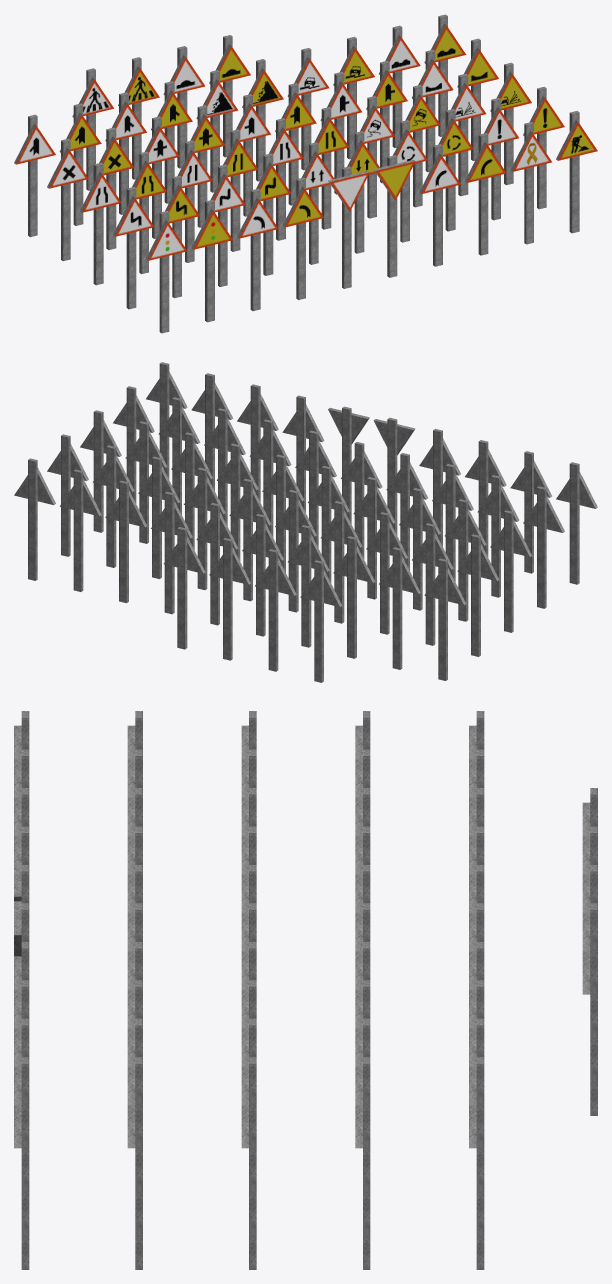
File: simple_triangular_traffic_asset.glb
3 renders of one model, top to bottom at view 1: azimuth 30°, elevation 25°; view 2: azimuth 150°, elevation 25°; view 3: azimuth 270°, elevation 25°, orthographic. The views are drawn at different scales.
Parts seen in each view (by area): view 1: Senyal cediu obres, Senyal Corba L, Senyal Estrenyiment, Senyal Corbes L, Senyal Corba R obres, Senyal semafor, Senyal Obres, Senyal Cediu, Senyal Corba L obres, Senyal Corba R, Senyal Semafor obres, Senyal Llibertat presos politics (+42 smaller); view 2: Senyal semafor, Senyal Incorporacio prioritat L obres, Senyal Irregular, Senyal Pas vianants obres, Senyal Ressalt obres, Senyal Incorporacio prioritat L, Senyal Incorporacio prioritat R, Senyal Pas vianants, Senyal Irregular obres, Senyal Estrenyiment, Senyal esglao obres, Senyal Ressalt (+42 smaller); view 3: Senyal Obres, Senyal Irregular obres, Senyal Baden obres, Senyal Perill obres, Senyal Graveta obres, Senyal Ressalt obres, Senyal cediu obres.
Part boxes in pixels (left/top/right/bottom): Senyal cediu obres: left=373, top=155, right=415, bottom=277; Senyal Corba L: left=237, top=188, right=278, bottom=311; Senyal Estrenyiment: left=80, top=162, right=121, bottom=285; Senyal Corbes L: left=113, top=187, right=154, bottom=309; Senyal Corba R obres: left=465, top=133, right=506, bottom=255; Senyal semafor: left=145, top=211, right=187, bottom=333; Senyal Obres: left=556, top=110, right=597, bottom=233; Senyal Cediu: left=328, top=166, right=369, bottom=288; Senyal Corba L obres: left=282, top=177, right=324, bottom=299; Senyal Corba R: left=419, top=144, right=460, bottom=266; Senyal Semafor obres: left=191, top=199, right=232, bottom=322; Senyal Llibertat presos politics: left=510, top=122, right=551, bottom=244; Senyal semafor: left=556, top=462, right=597, bottom=584; Senyal Incorporacio prioritat L obres: left=379, top=547, right=420, bottom=669; Senyal Irregular: left=60, top=469, right=101, bottom=591; Senyal Pas vianants obres: left=255, top=549, right=296, bottom=671; Senyal Ressalt obres: left=164, top=527, right=205, bottom=649; Senyal Incorporacio prioritat L: left=424, top=558, right=466, bottom=680; Senyal Incorporacio prioritat R: left=333, top=536, right=374, bottom=658; Senyal Pas vianants: left=300, top=560, right=341, bottom=682; Senyal Irregular obres: left=14, top=458, right=55, bottom=580; Senyal Estrenyiment: left=490, top=510, right=531, bottom=632; Senyal esglao obres: left=105, top=480, right=146, bottom=603; Senyal Ressalt: left=209, top=538, right=250, bottom=660; Senyal Obres: left=14, top=1057, right=29, bottom=1269; Senyal Irregular obres: left=469, top=1057, right=484, bottom=1269; Senyal Baden obres: left=355, top=1057, right=370, bottom=1269; Senyal Perill obres: left=127, top=1057, right=142, bottom=1269; Senyal Graveta obres: left=241, top=1057, right=256, bottom=1269; Senyal Ressalt obres: left=582, top=903, right=597, bottom=1115; Senyal cediu obres: left=14, top=901, right=29, bottom=956.
Size of the model in its own units: 7.9 by 2 by 5.13.
54 materials, 54 textured.
